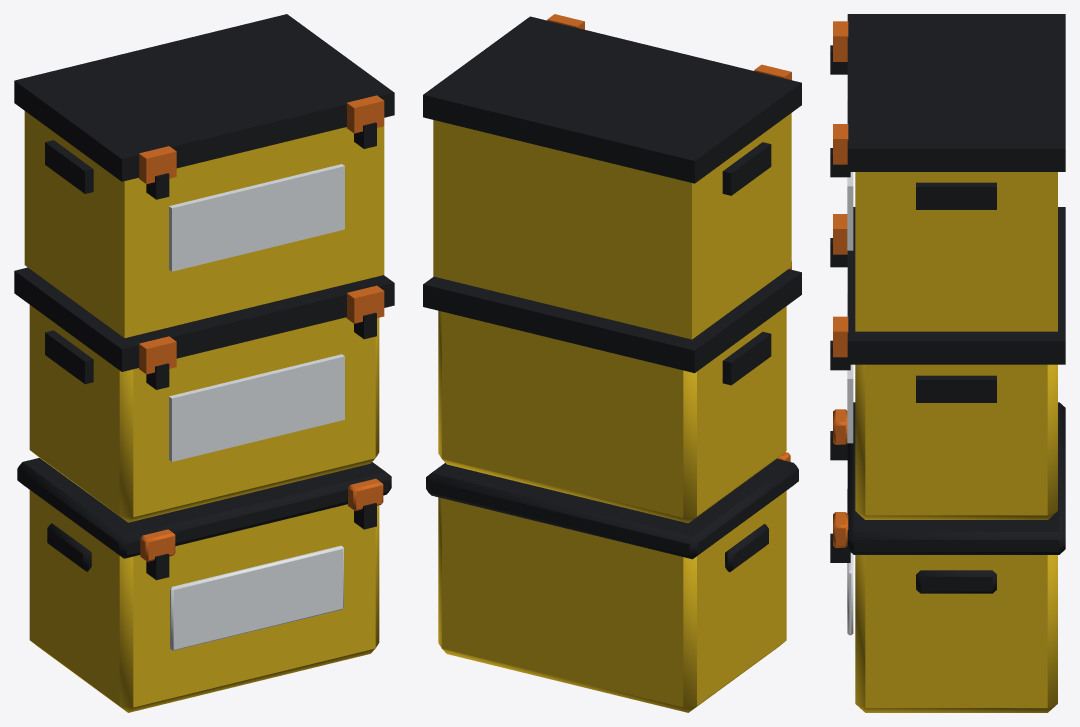
The model's file is crate_tote_stack_yellow.glb.
The picture shows the model from 3 angles, left to right: view 1: azimuth 30°, elevation 25°; view 2: azimuth 150°, elevation 25°; view 3: azimuth 270°, elevation 25°; orthographic projection.
Visible parts, largest first — view 1: crate_tote_stack_yellow; view 2: crate_tote_stack_yellow; view 3: crate_tote_stack_yellow.
Boxes of the visible parts, bbox=[...] form: crate_tote_stack_yellow: bbox=[14, 14, 394, 712]; crate_tote_stack_yellow: bbox=[423, 14, 801, 712]; crate_tote_stack_yellow: bbox=[830, 14, 1065, 712].
Size of the model in its own units: 0.644 by 1.25 by 0.464.
